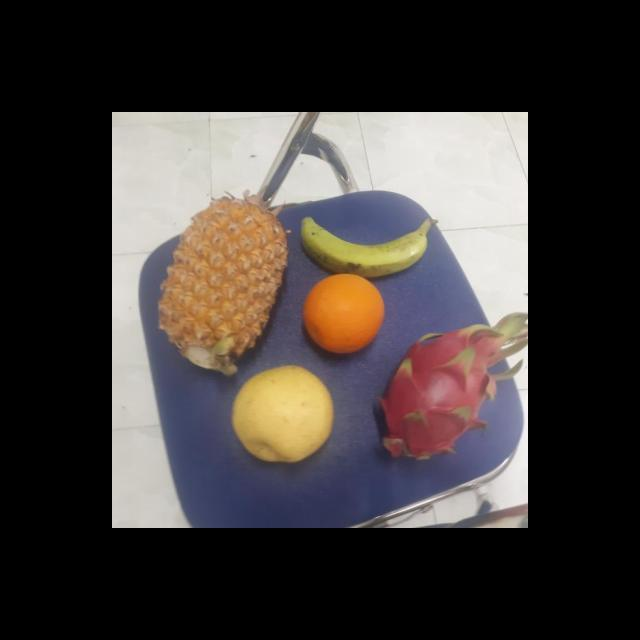banana: (292, 214, 424, 276)
orange: (300, 270, 384, 355)
pear: (228, 368, 334, 464)
pineapple: (160, 198, 282, 374)
pitaya: (364, 332, 498, 462)
